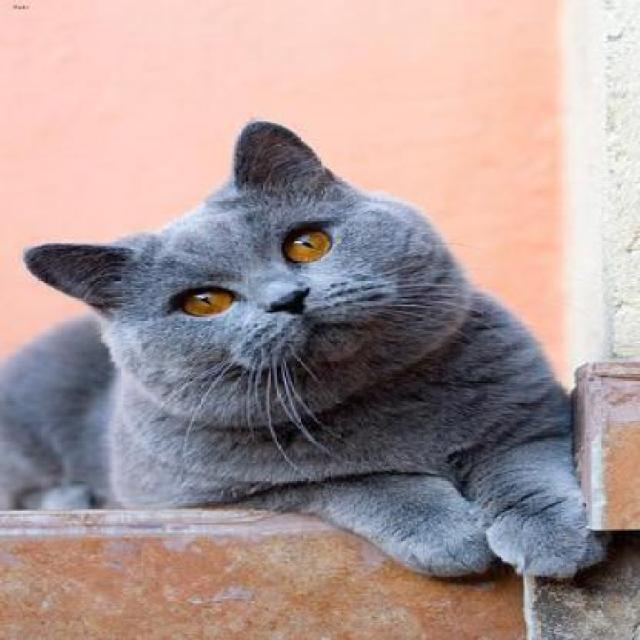cat: (0, 120, 600, 578)
